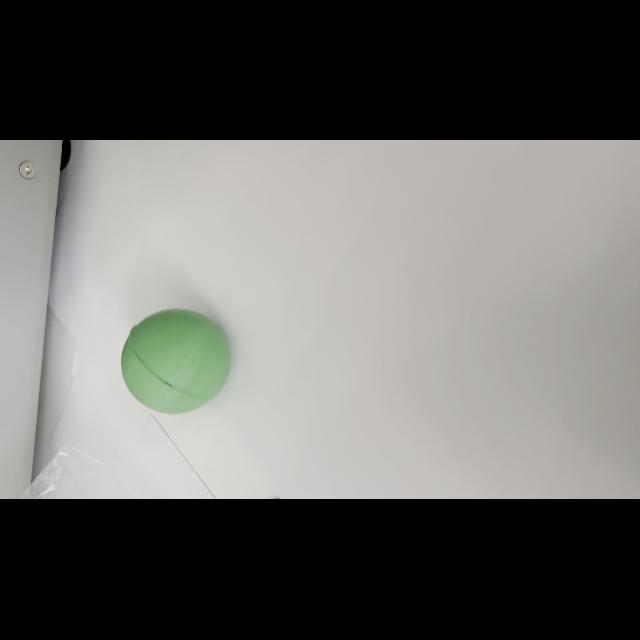objects: (119, 306, 233, 416)
